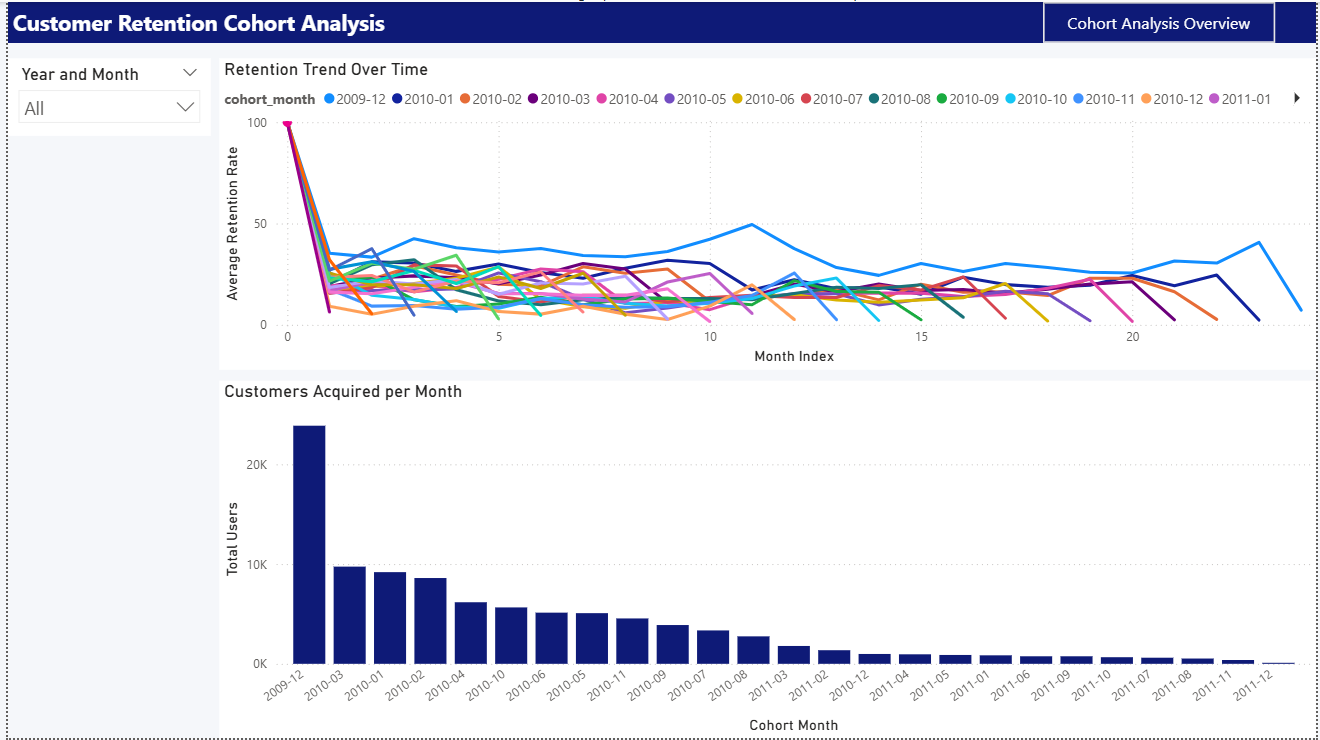

The page's visual inventory and layout, read from the dashboard file:
{"tool":"powerbi","page":{"name":"Page 2","canvas":[1280,720],"ordinal":1},"visuals":[{"type":"textbox","box":[0,0,1280.3,40.4],"z":0,"group":"g1"},{"type":"lineChart","title":"Retention Trend Over Time","fields":{"Category":["retail_data retention_final.month_index"],"Y":["Sum(retail_data retention_final.retention_percentage)"],"Series":["retail_data retention_final.cohort_month"]},"box":[206.7,55,1073.6,304.5],"z":0},{"type":"actionButton","box":[1012.5,0,227.4,40.4],"z":1000,"group":"g1"},{"type":"slicer","fields":{"Values":["retail_data retention_final.year","retail_data retention_final.month"]},"box":[0,55,198.1,75.8],"z":1000},{"type":"clusteredColumnChart","title":"Customers Acquired per Month","fields":{"Category":["retail_data retention_final.cohort_month"],"Y":["Sum(retail_data retention_final.total_users)"]},"box":[207.2,370.5,1073.1,349.9],"z":2000},{"type":"group","id":"g1","title":"Group 1","box":[0,0,1280.3,40.4],"z":3000}]}

Visuals, with their boxes in screenshot pixels (x1, y1, x2, y2), scaled from the page's 1280x720 canvas onto the 1320x740 screenshot:
textbox: Rect(0, 0, 1319, 42)
"Retention Trend Over Time" lineChart: Rect(213, 57, 1319, 369)
actionButton: Rect(1044, 0, 1279, 42)
slicer - retail_data retention_final.year x retail_data retention_final.month: Rect(0, 57, 204, 134)
"Customers Acquired per Month" clusteredColumnChart: Rect(214, 381, 1319, 739)
"Group 1" group: Rect(0, 0, 1319, 42)
